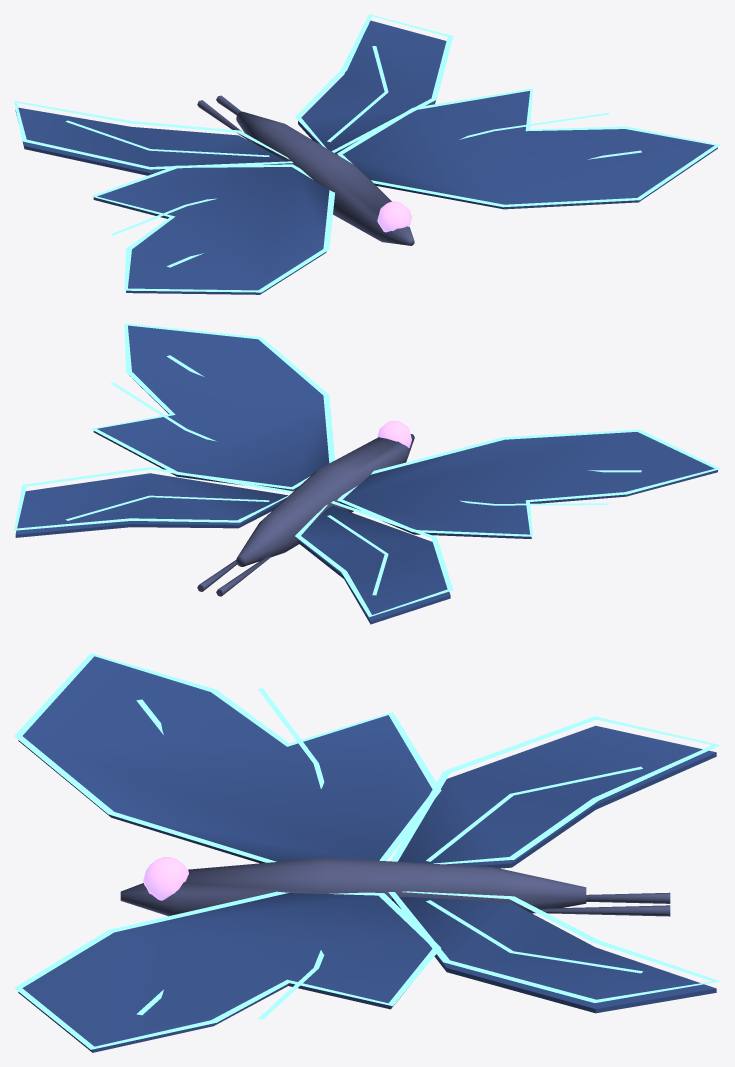
The model's file is butterfly.glb.
3 views of the same model, one above another, from view 1: azimuth 30°, elevation 25°; view 2: azimuth 150°, elevation 25°; view 3: azimuth 270°, elevation 25° (orthographic). The views are drawn at different scales.
Parts seen in each view (by area): view 1: butterfly; view 2: butterfly; view 3: butterfly.
Boxes of the visible parts, x1,y1,x2,y2 form: butterfly: [14, 14, 720, 294]; butterfly: [14, 323, 720, 624]; butterfly: [14, 653, 720, 1052].
Bounding box in the file's own units: 10.08 × 0.83 × 7.59.
